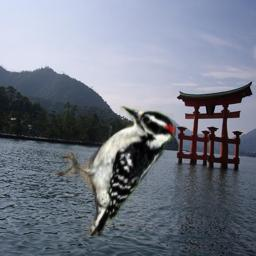Woodpecker: (54, 106, 176, 236)
